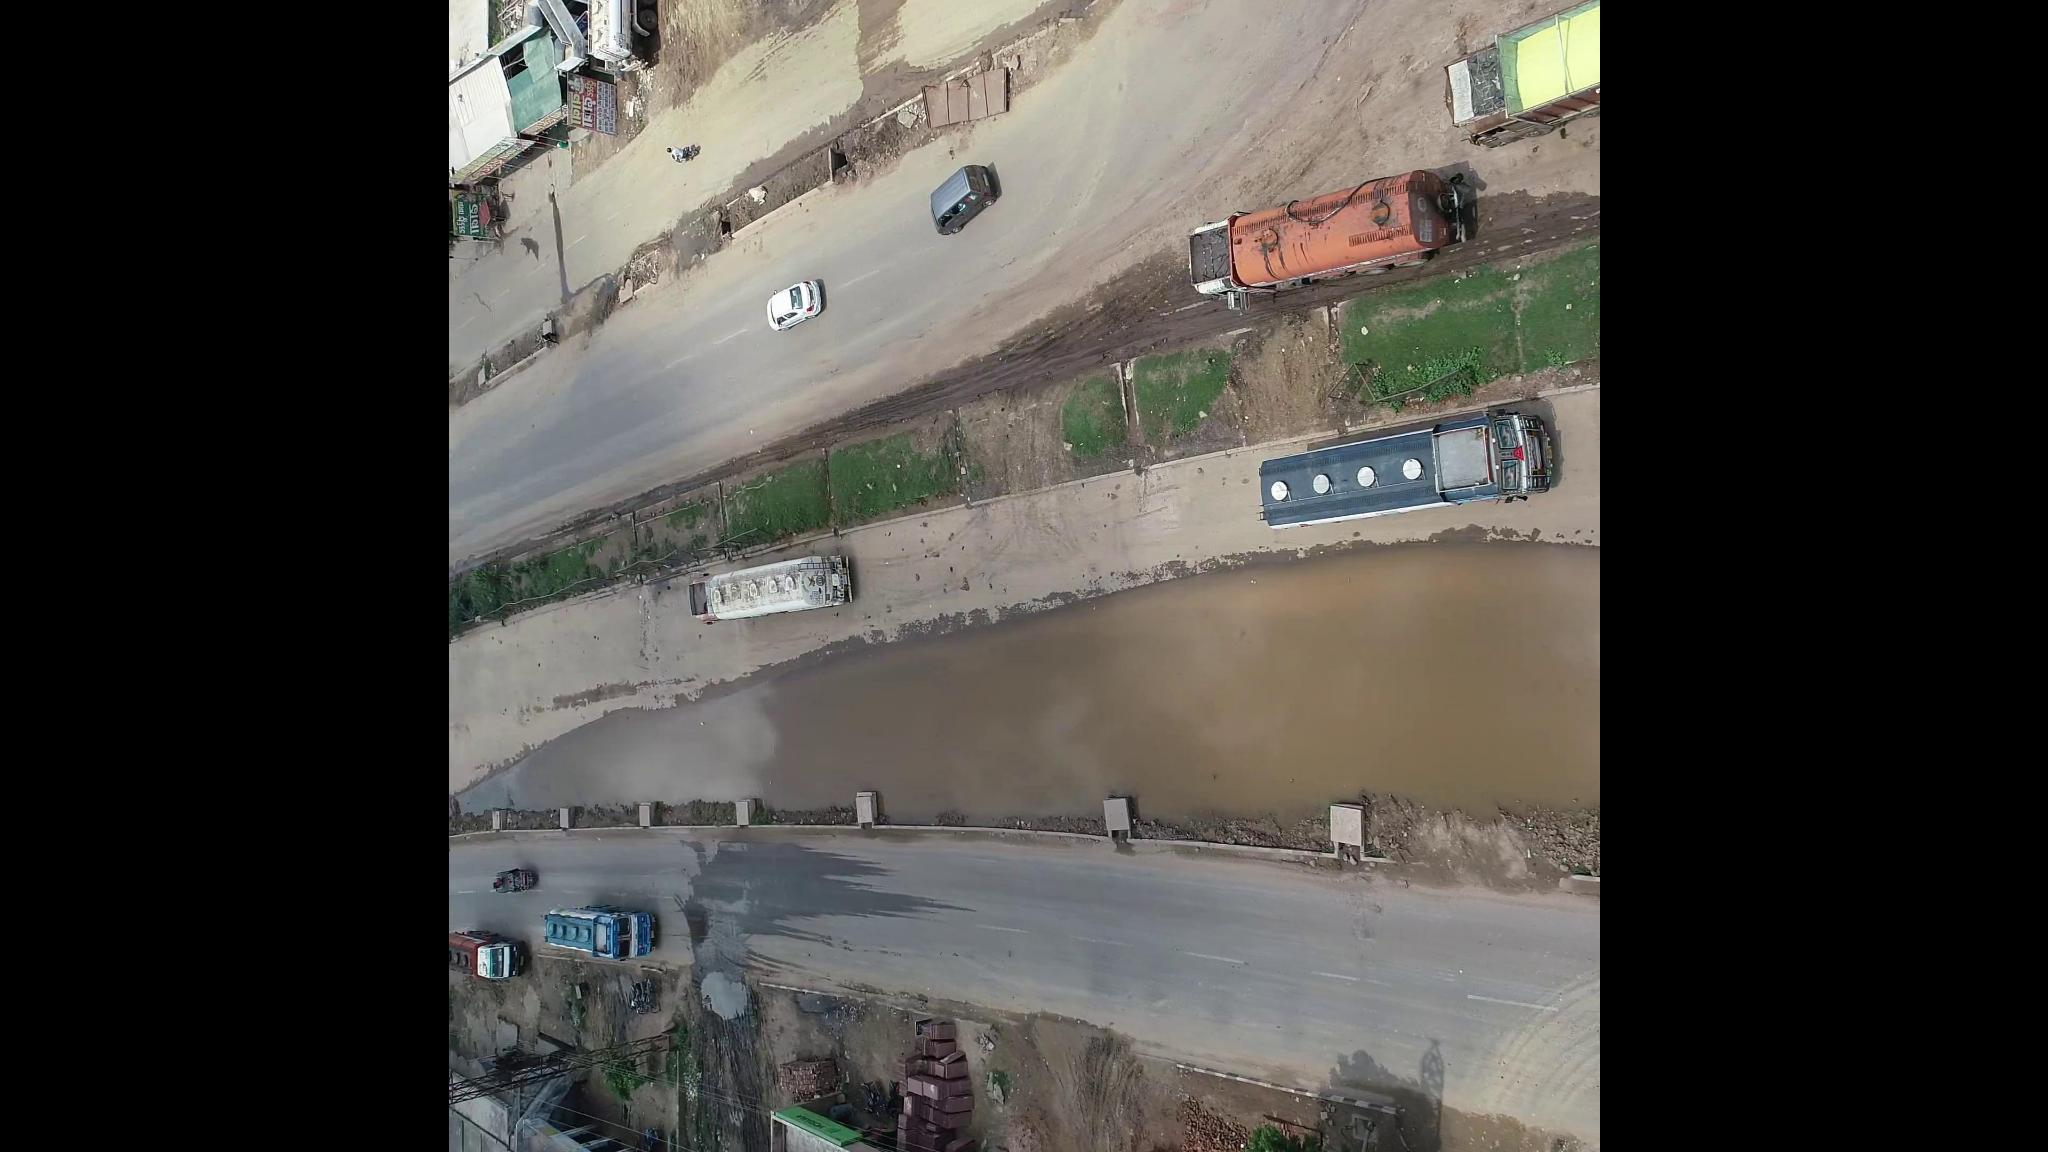Waterlogging: (1110, 558, 1585, 807), (623, 596, 1092, 807)
